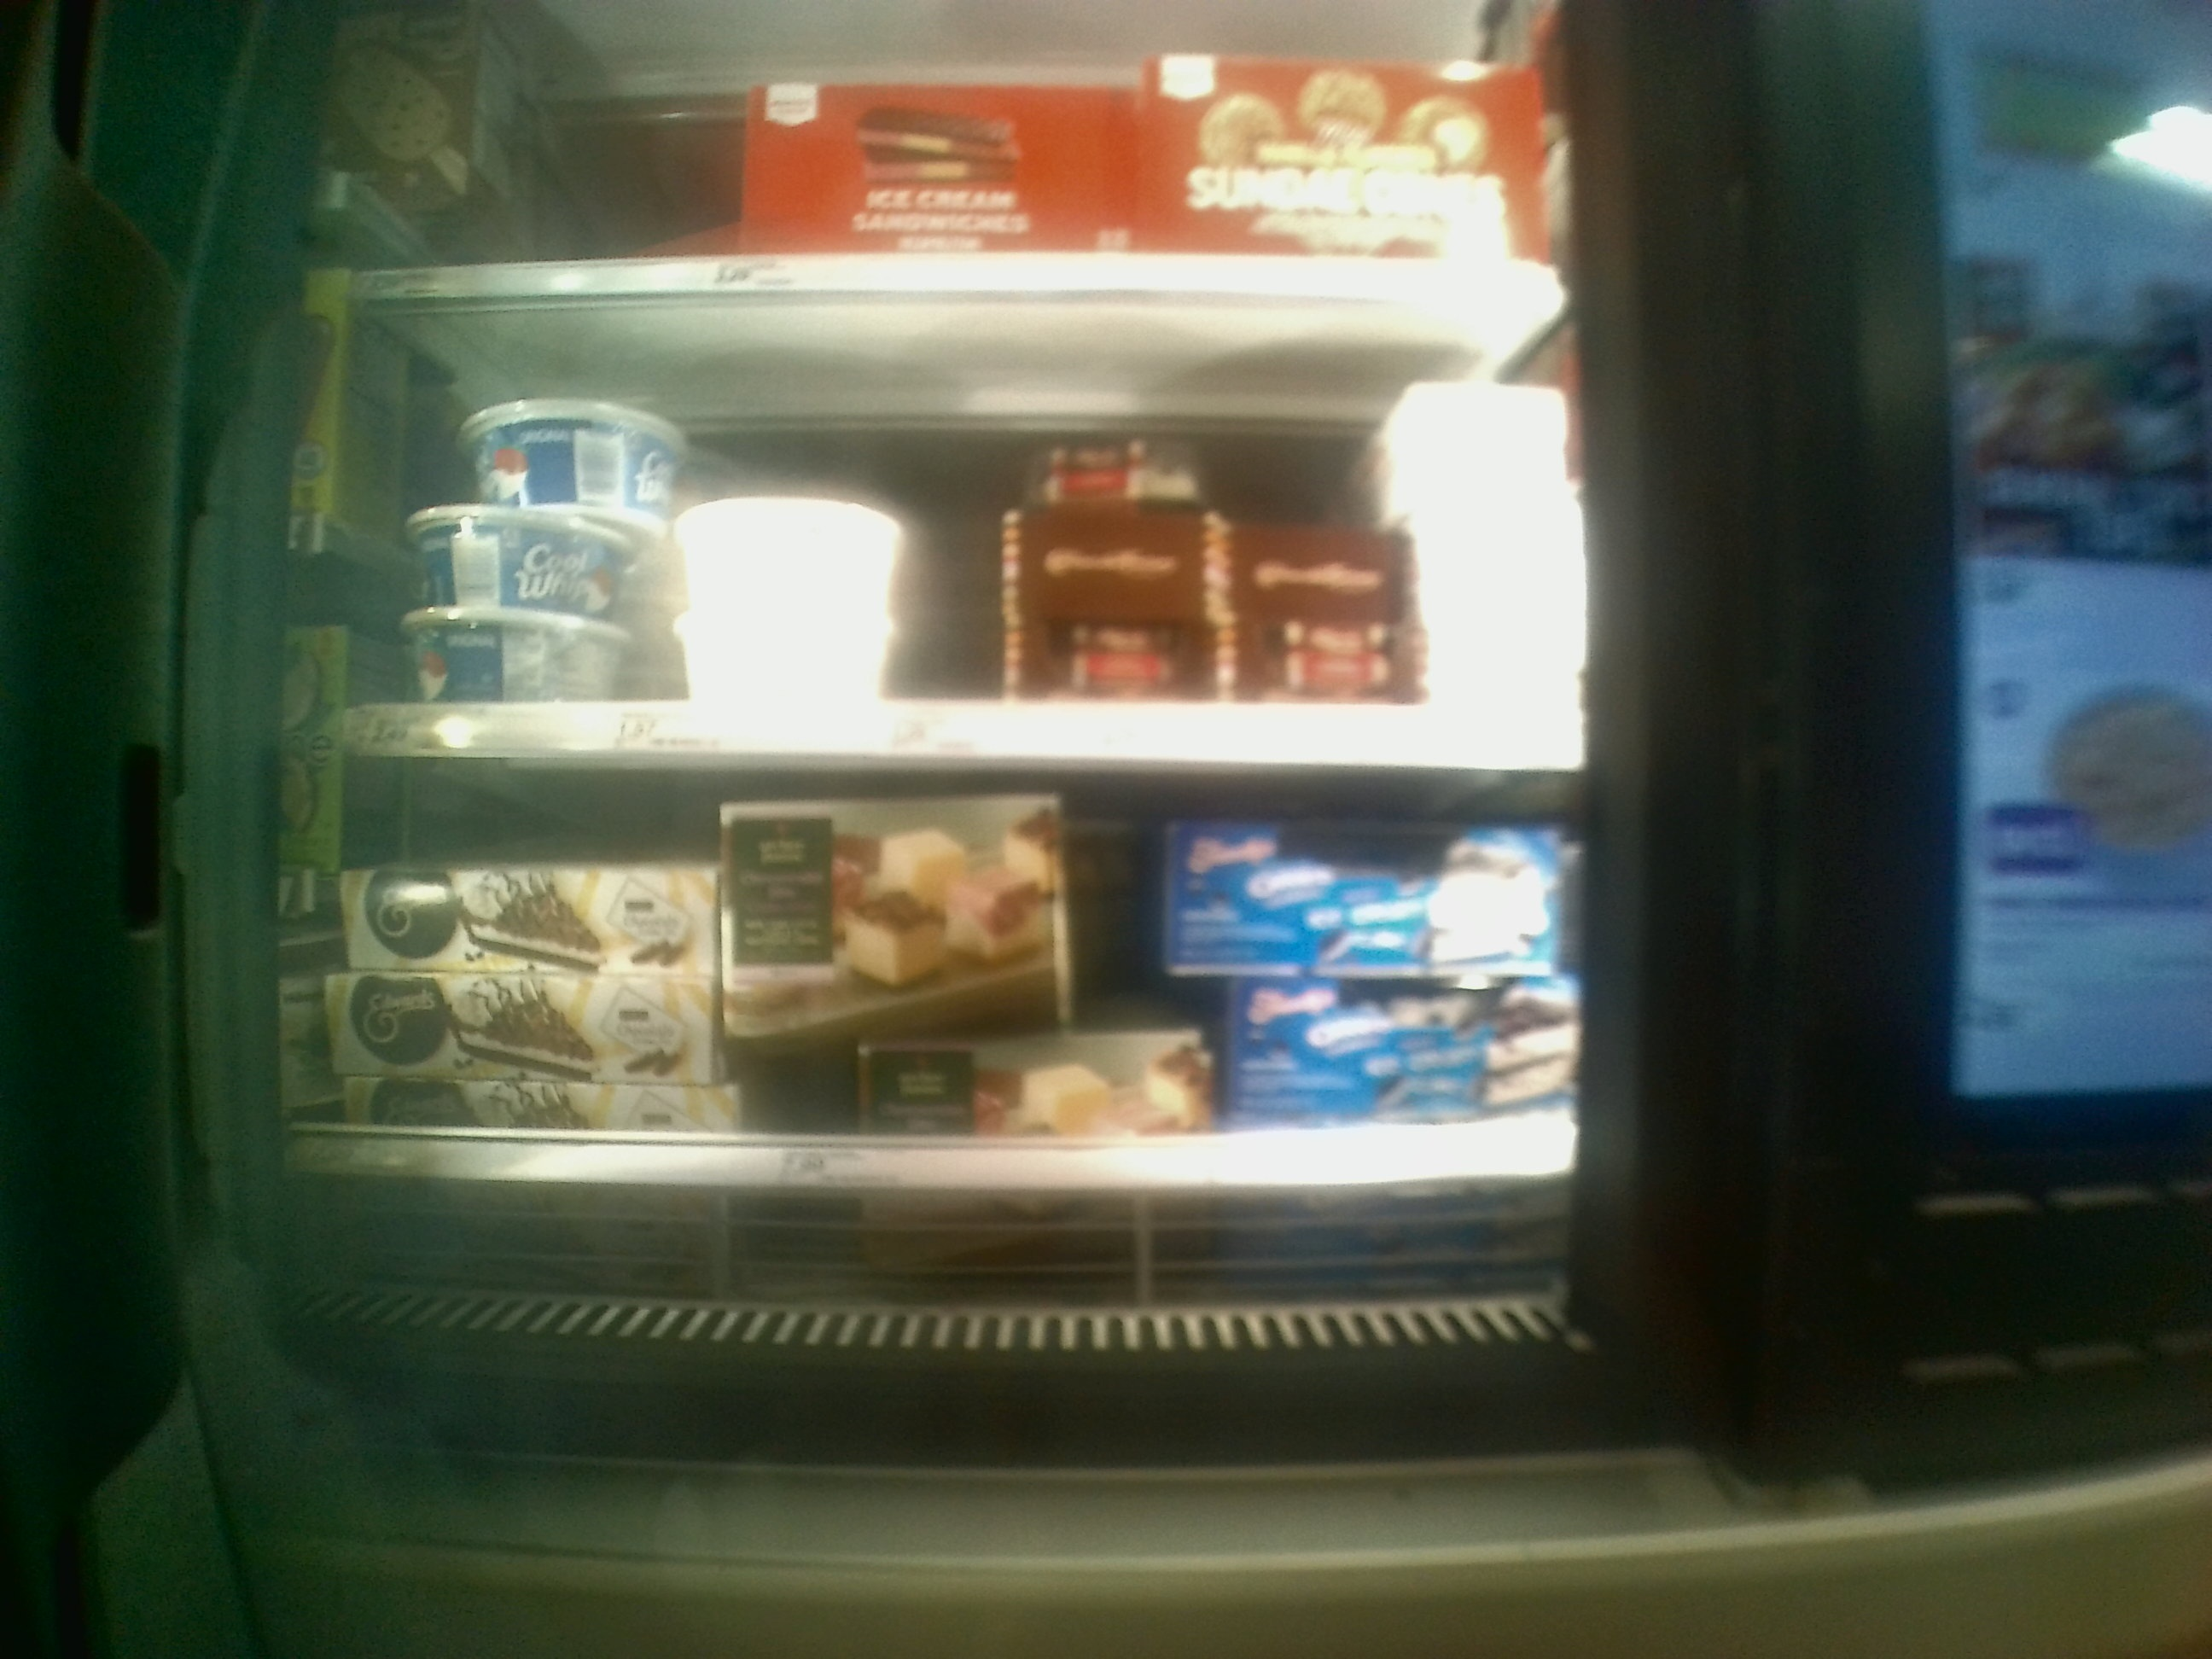shelf: (347, 301, 1615, 772), (273, 767, 1615, 1185)
